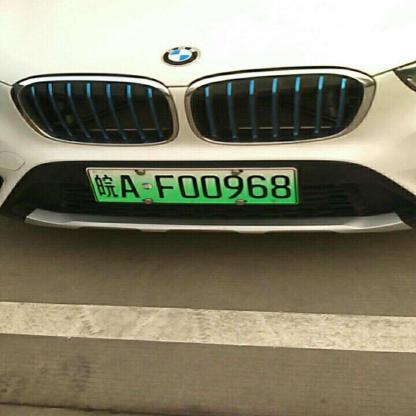lp: (88, 169, 296, 202)
